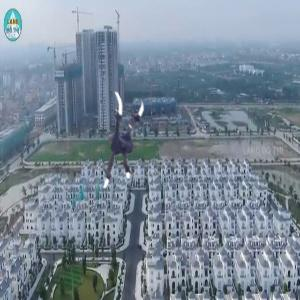drone: (65, 91, 162, 188)
